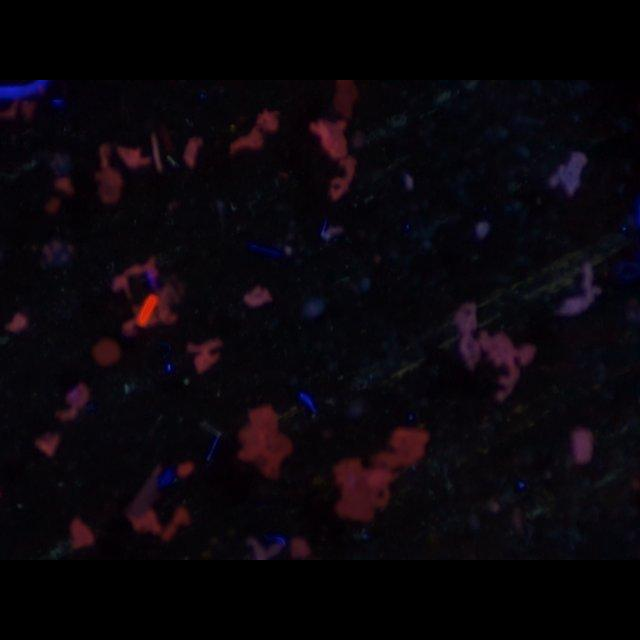Fibre: (548, 149, 588, 197)
Fragment: (235, 404, 292, 478), (308, 122, 358, 198)
